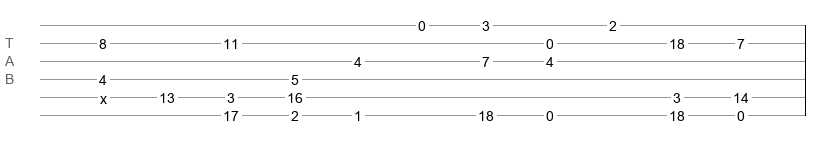0: (418, 18, 426, 28), (546, 36, 554, 46), (546, 108, 554, 118), (737, 108, 745, 118)
1: (354, 108, 362, 118)
11: (223, 36, 239, 46)
13: (159, 90, 175, 100)
14: (733, 90, 749, 100)
16: (287, 90, 303, 100)
17: (223, 108, 239, 118)
18: (478, 108, 494, 118), (669, 36, 685, 46), (669, 108, 685, 118)
2: (291, 108, 299, 118), (609, 18, 617, 28)
3: (227, 90, 235, 100), (482, 18, 490, 28), (673, 90, 681, 100)
4: (99, 72, 107, 82), (354, 54, 362, 64), (546, 54, 554, 64)
5: (291, 72, 299, 82)
7: (482, 54, 490, 64), (737, 36, 745, 46)
8: (99, 36, 107, 46)
x: (100, 91, 107, 99)
